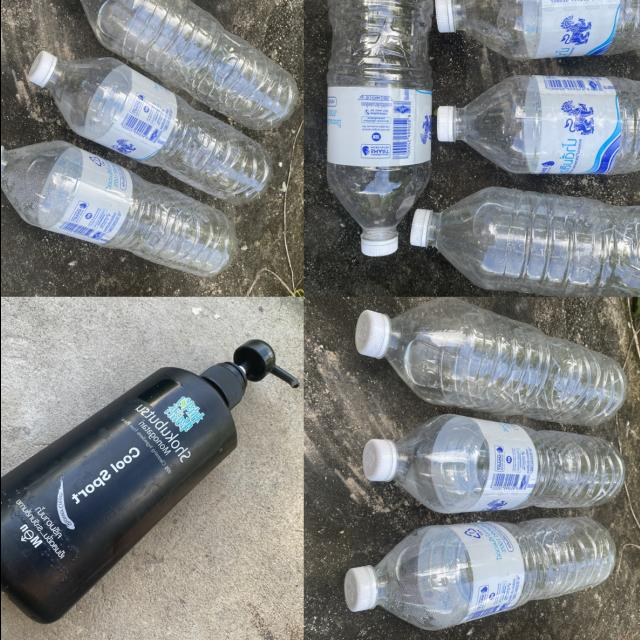plastik: (0, 340, 297, 625), (28, 51, 272, 204), (354, 298, 625, 425), (0, 142, 235, 277), (343, 517, 614, 630), (80, 0, 297, 130), (326, 0, 432, 256), (362, 414, 624, 514), (409, 188, 640, 297), (436, 76, 640, 174), (434, 0, 640, 61)
